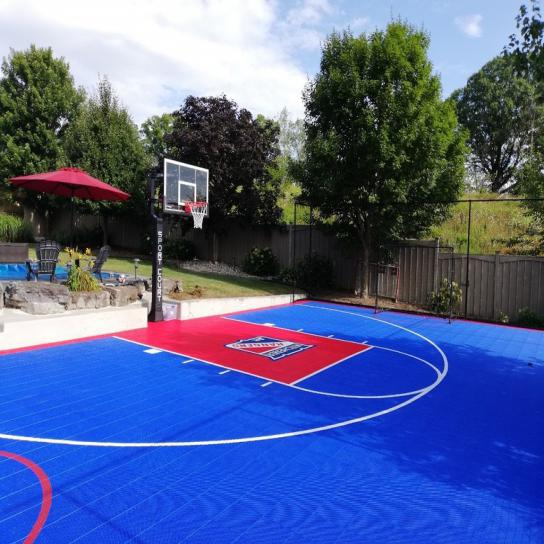basketball-hoop: (188, 199, 208, 230)
